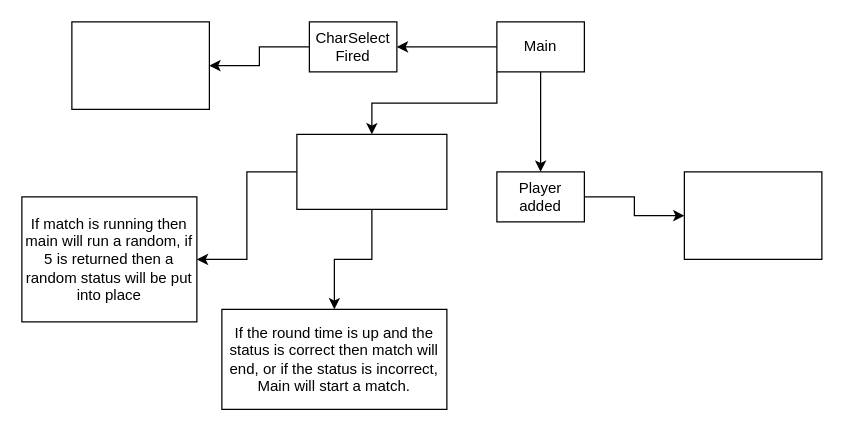
Image size: 844x431. Some labels were removed from this diagram. The box of each missing label's shape, as (x1, y1, x2, y2) in pixels:
Added to leaderboard and given coins: (683, 171, 822, 259)
Fires a time update every second: (296, 133, 447, 209)
Fires Character Manager to Change character: (71, 21, 209, 109)
